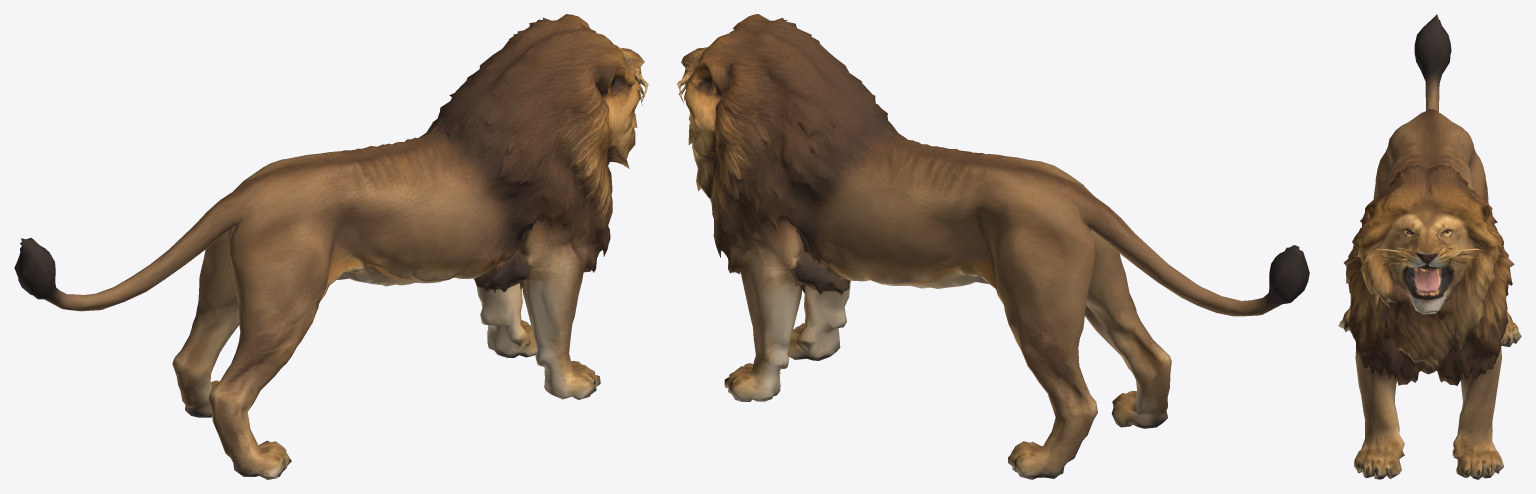
File: LEOTHELION.glb
The picture shows the model from 3 angles, left to right: view 1: azimuth 30°, elevation 25°; view 2: azimuth 150°, elevation 25°; view 3: azimuth 270°, elevation 25°; orthographic projection. The views are drawn at different scales.
Parts seen in each view (by area): view 1: tripo_node_82b41ecf-f824-4513-8f85-9531a90aa499; view 2: tripo_node_82b41ecf-f824-4513-8f85-9531a90aa499; view 3: tripo_node_82b41ecf-f824-4513-8f85-9531a90aa499.
Boxes of the visible parts, left/top/right/bottom form: tripo_node_82b41ecf-f824-4513-8f85-9531a90aa499: left=14, top=14, right=648, bottom=479; tripo_node_82b41ecf-f824-4513-8f85-9531a90aa499: left=677, top=14, right=1309, bottom=479; tripo_node_82b41ecf-f824-4513-8f85-9531a90aa499: left=1338, top=14, right=1521, bottom=479.
Bounding box in the file's own units: 1.89 × 1 × 0.5377.
Materials: 1 (1 with a texture image).
